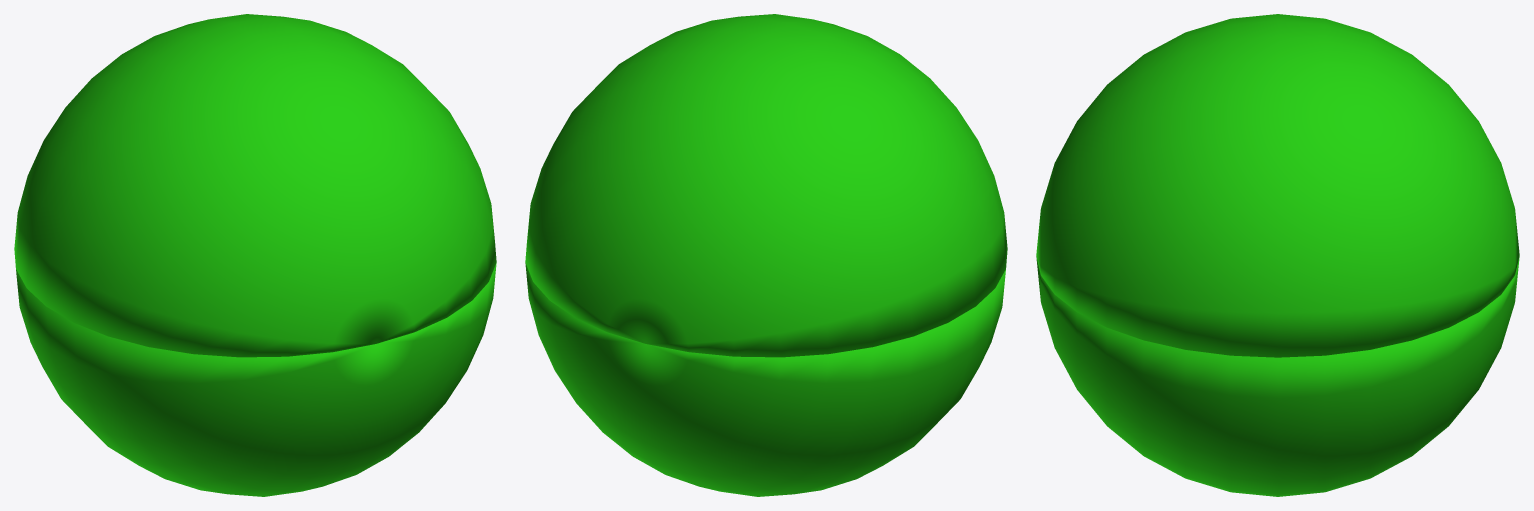
File: Watermelon_Sliced.fbx
3 renders of one model, left to right at view 1: azimuth 30°, elevation 25°; view 2: azimuth 150°, elevation 25°; view 3: azimuth 270°, elevation 25°, orthographic.
Visible parts, largest first — view 1: Sphere.002, Sphere; view 2: Sphere.002, Sphere; view 3: Sphere.002, Sphere.
Boxes of the visible parts, <box> form: Sphere.002: <box>14,14,496,357</box>; Sphere: <box>16,263,496,496</box>; Sphere.002: <box>525,14,1007,357</box>; Sphere: <box>525,263,1005,496</box>; Sphere.002: <box>1036,14,1519,357</box>; Sphere: <box>1036,256,1519,496</box>.
Bounding box in the file's own units: 2 × 2 × 2.
